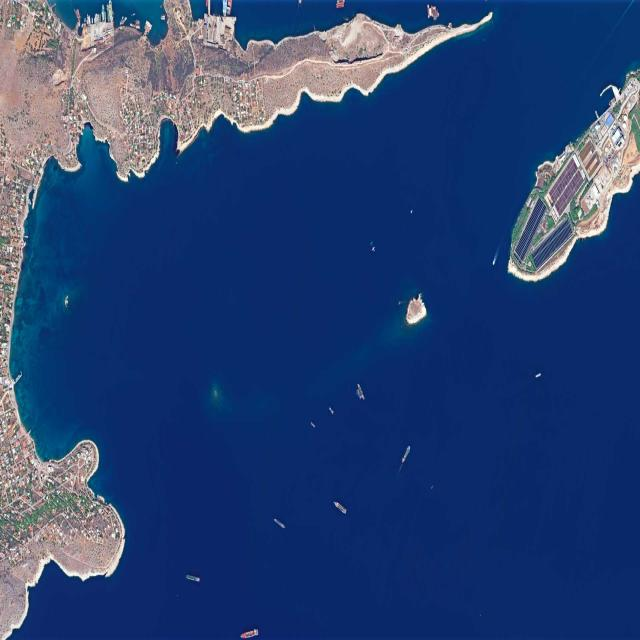oil spill: (305, 307, 405, 395), (204, 372, 277, 471)
